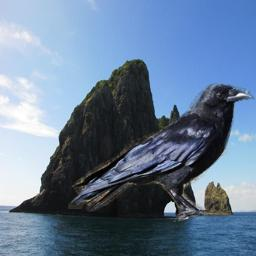Crow: (68, 79, 255, 223)
